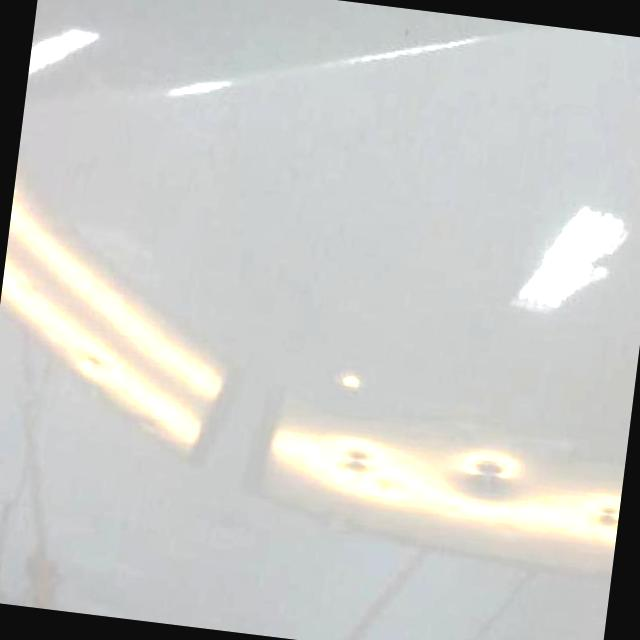dent: (456, 447, 522, 493), (338, 442, 376, 481), (584, 494, 620, 535), (78, 349, 108, 373), (337, 369, 365, 392), (372, 480, 406, 498)
